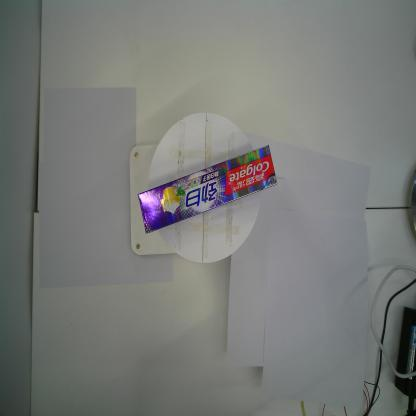Personal Hygiene: (138, 143, 278, 234)
